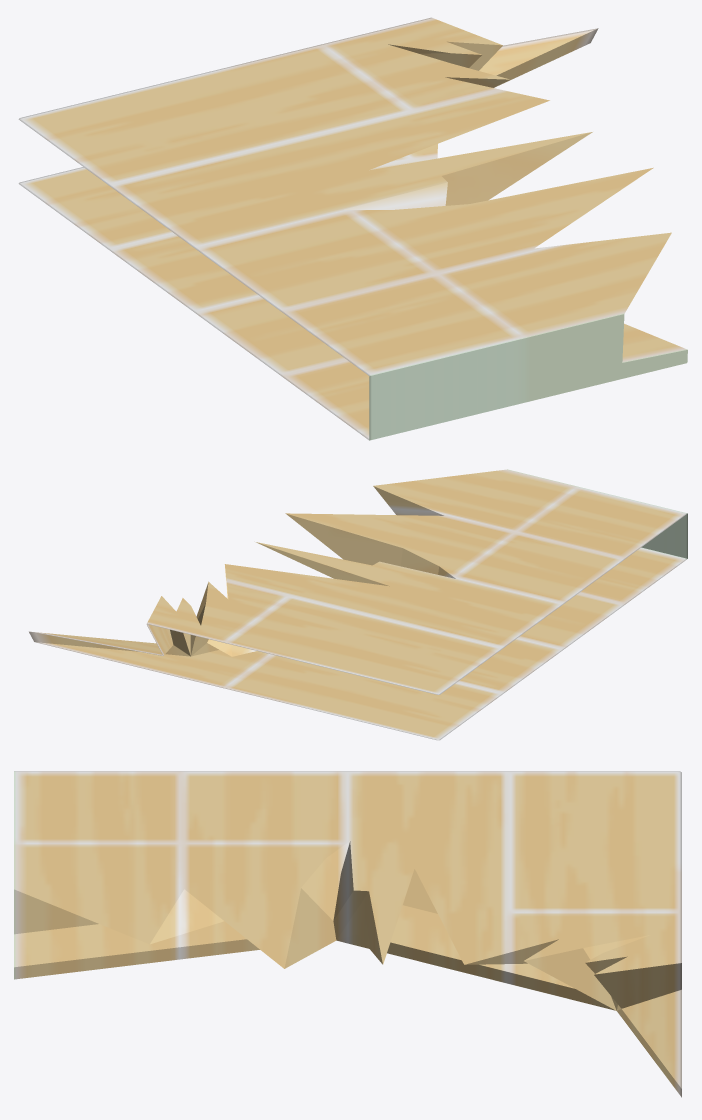
The model's file is Mod_Tile_05_Broken_03.fbx.
The picture shows the model from 3 angles, top to bottom: view 1: azimuth 30°, elevation 25°; view 2: azimuth 150°, elevation 25°; view 3: azimuth 270°, elevation 25°; orthographic projection. The views are drawn at different scales.
Parts seen in each view (by area): view 1: Mod_Tile_05_Broken_03; view 2: Mod_Tile_05_Broken_03; view 3: Mod_Tile_05_Broken_03.
Boxes of the visible parts, left/top/right/bottom form: Mod_Tile_05_Broken_03: left=18, top=17, right=687, bottom=440; Mod_Tile_05_Broken_03: left=29, top=469, right=687, bottom=740; Mod_Tile_05_Broken_03: left=14, top=771, right=681, bottom=1097.
Size of the model in its own units: 97.35 by 10 by 100.
